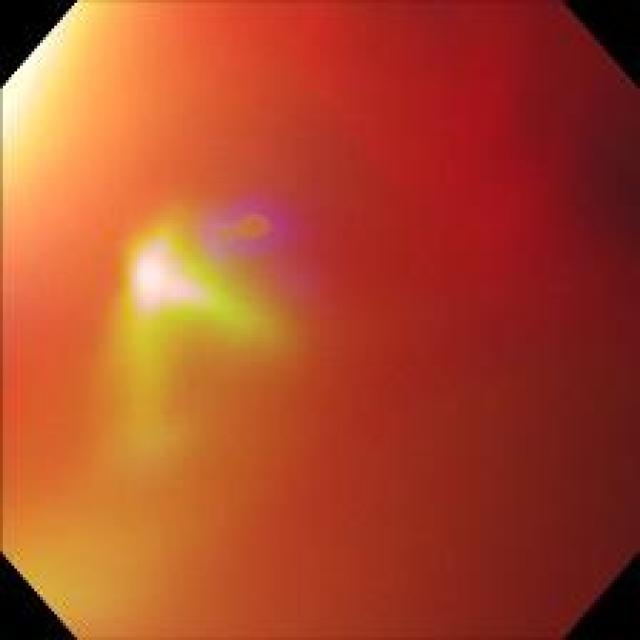color misalignment: (320, 29, 628, 626), (11, 9, 305, 486), (106, 221, 271, 436), (188, 196, 302, 254)
